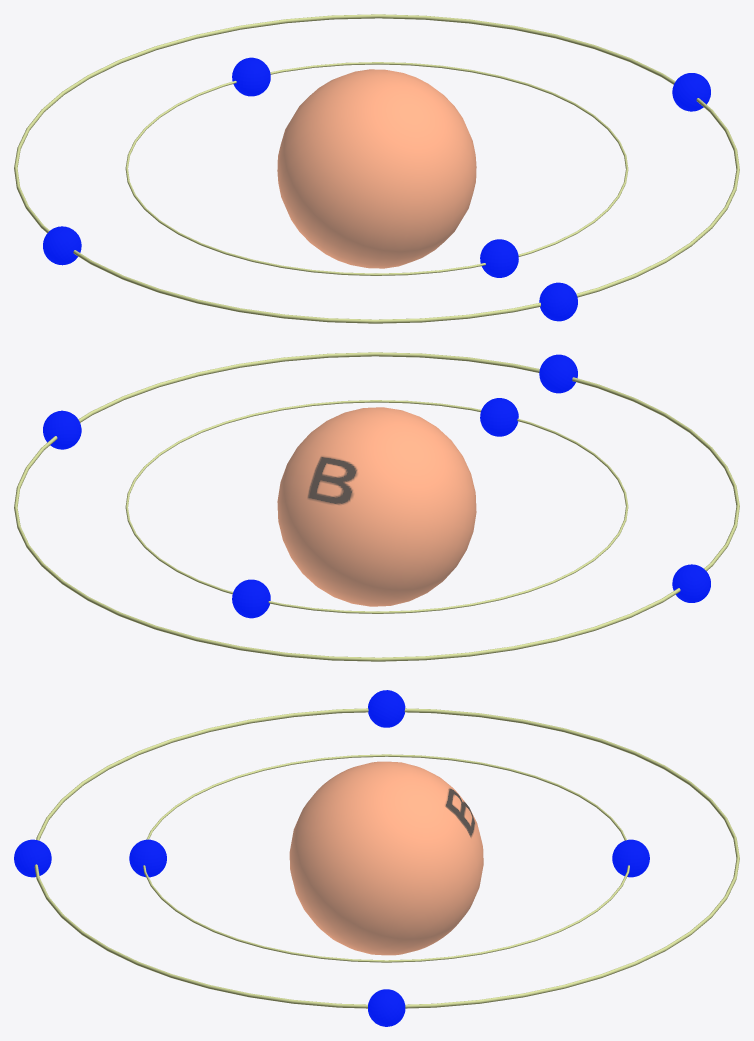
3 views of the same model, one above another, from view 1: azimuth 30°, elevation 25°; view 2: azimuth 150°, elevation 25°; view 3: azimuth 270°, elevation 25° (orthographic). The views are drawn at different scales.
Parts seen in each view (by area): view 1: 球体, 贝塞尔圆环.001, 贝塞尔圆环, 球体.001, 球体.009, 球体.004, 球体.006, 球体.011; view 2: 球体, 贝塞尔圆环.001, 贝塞尔圆环, 球体.001, 球体.004, 球体.009, 球体.006, 球体.011; view 3: 球体, 贝塞尔圆环.001, 贝塞尔圆环, 球体.011, 球体.006, 球体.001, 球体.004, 球体.009.
Boxes of the visible parts, bbox=[...] form: 球体: bbox=[277, 69, 476, 268]; 贝塞尔圆环.001: bbox=[14, 14, 739, 323]; 贝塞尔圆环: bbox=[125, 62, 628, 275]; 球体.001: bbox=[232, 57, 270, 96]; 球体.009: bbox=[539, 282, 577, 321]; 球体.004: bbox=[480, 239, 518, 277]; 球体.006: bbox=[43, 226, 81, 265]; 球体.011: bbox=[672, 73, 710, 111]; 球体: bbox=[277, 407, 476, 606]; 贝塞尔圆环.001: bbox=[14, 352, 739, 661]; 贝塞尔圆环: bbox=[125, 400, 628, 613]; 球体.001: bbox=[232, 579, 270, 618]; 球体.004: bbox=[480, 398, 518, 436]; 球体.009: bbox=[539, 354, 577, 393]; 球体.006: bbox=[672, 564, 710, 602]; 球体.011: bbox=[43, 410, 81, 449]; 球体: bbox=[289, 761, 483, 955]; 贝塞尔圆环.001: bbox=[34, 708, 739, 1008]; 贝塞尔圆环: bbox=[143, 754, 629, 962]; 球体.011: bbox=[368, 989, 405, 1026]; 球体.006: bbox=[368, 690, 405, 727]; 球体.001: bbox=[612, 839, 649, 877]; 球体.004: bbox=[129, 839, 166, 877]; 球体.009: bbox=[14, 839, 51, 877].
Size of the model in its own units: 1.85 by 0.4831 by 1.81.
Materials: 3 (1 with a texture image).
